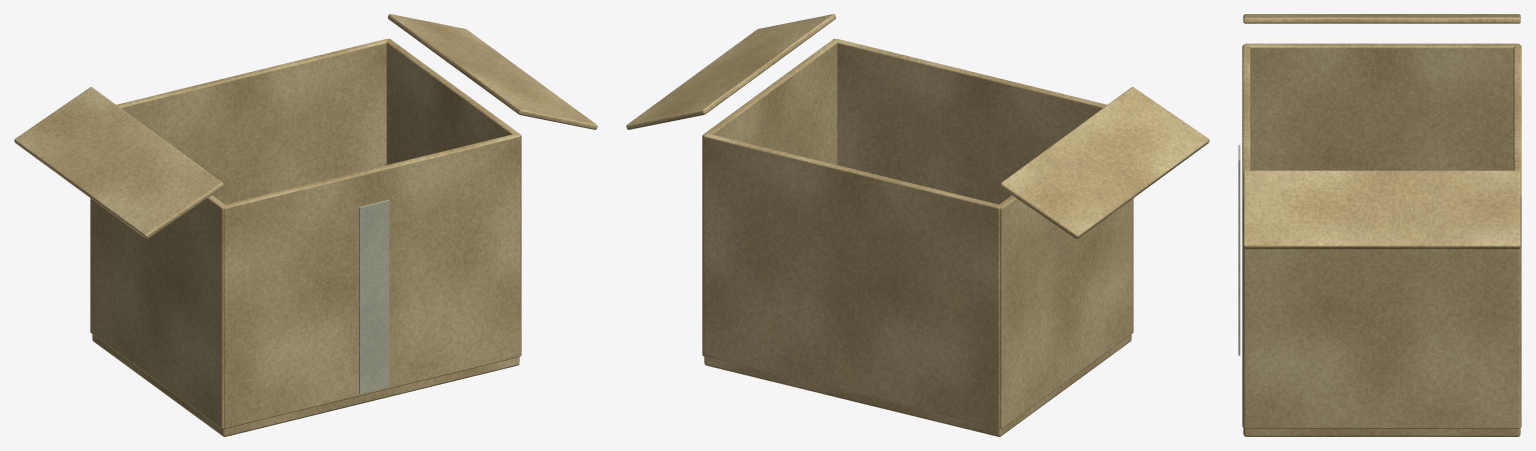
Rendered from CardboardBox.fbx.
3 views of the same model, side by side, from view 1: azimuth 30°, elevation 25°; view 2: azimuth 150°, elevation 25°; view 3: azimuth 270°, elevation 25° (orthographic). The views are drawn at different scales.
Parts seen in each view (by area): view 1: CardboardBox_Paper, CardboardBox_Enamel; view 2: CardboardBox_Paper; view 3: CardboardBox_Paper, CardboardBox_Enamel.
Part boxes in pixels (x1,y1,x2,y2): CardboardBox_Paper: (14, 14, 597, 436); CardboardBox_Enamel: (359, 200, 389, 393); CardboardBox_Paper: (626, 14, 1209, 436); CardboardBox_Paper: (1242, 14, 1521, 436); CardboardBox_Enamel: (1238, 145, 1240, 355).
Bounding box in the file's own units: 53.32 × 28.76 × 27.6.
